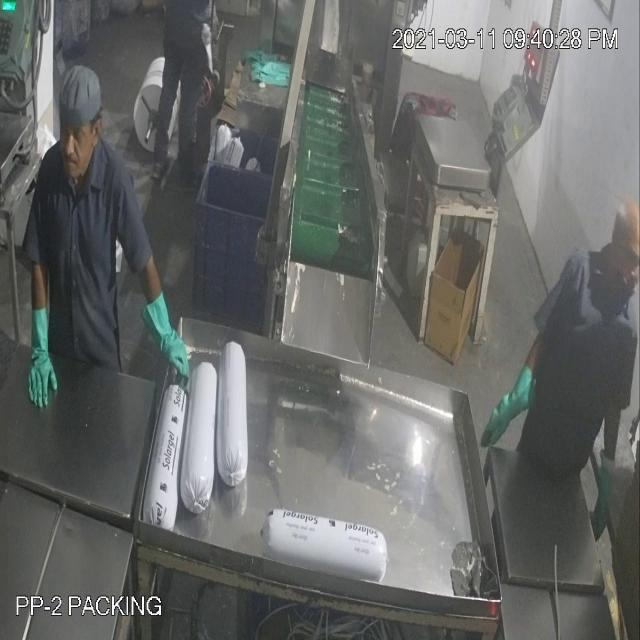Gloves: (39, 100, 601, 493)
